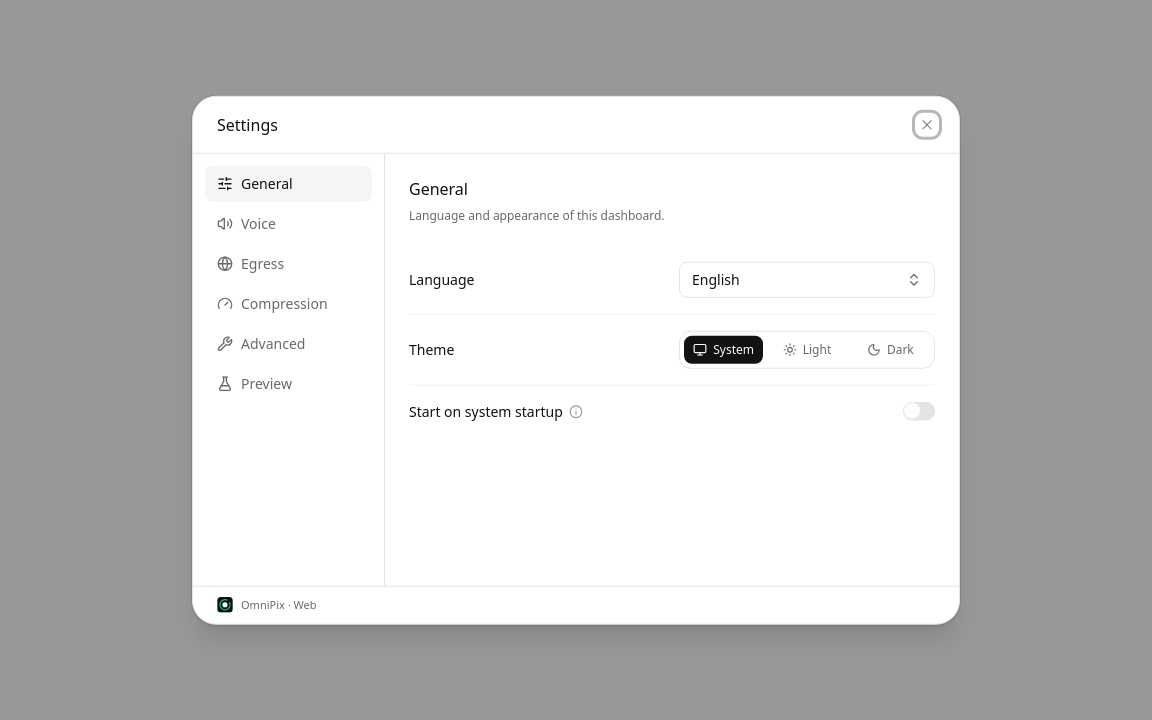
settings dialog — start on system startup › calls the shell to set the flag when toggled on
The width and height of the screenshot is (1152, 720).
Click the switch named "Start on system startup".
click(919, 411)  # box [903,402,935,420]
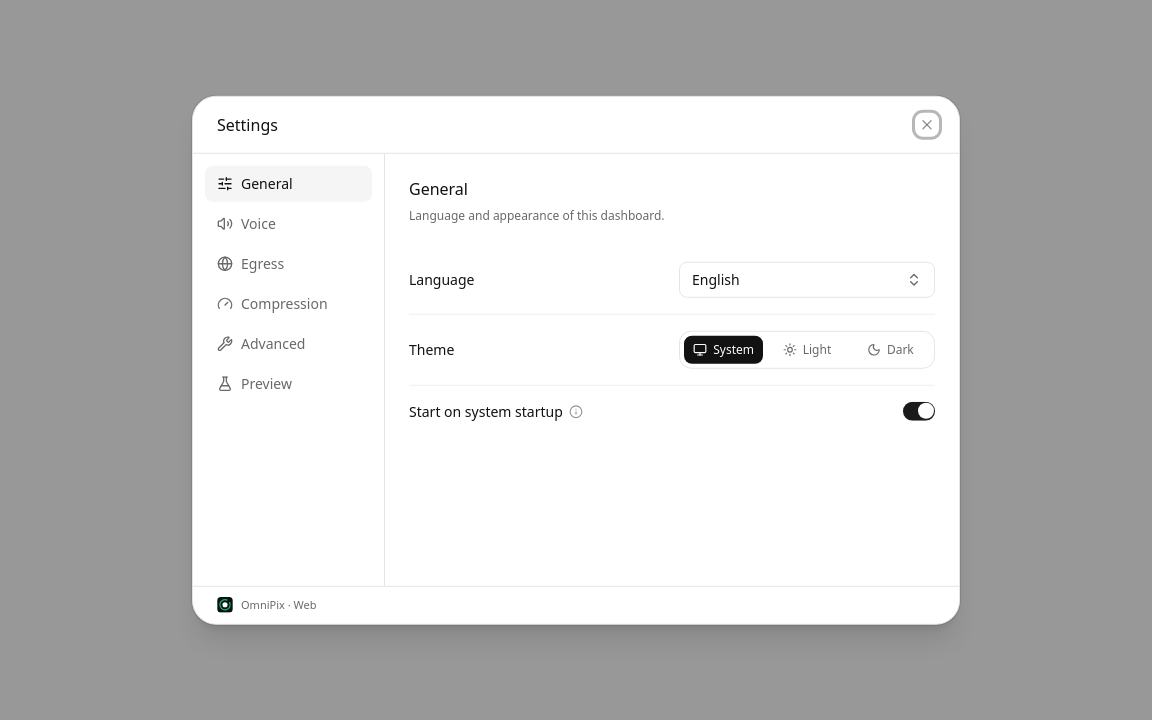
Expected: the switch named "Start on system startup" has attribute data-checked, [903,402,935,420]
